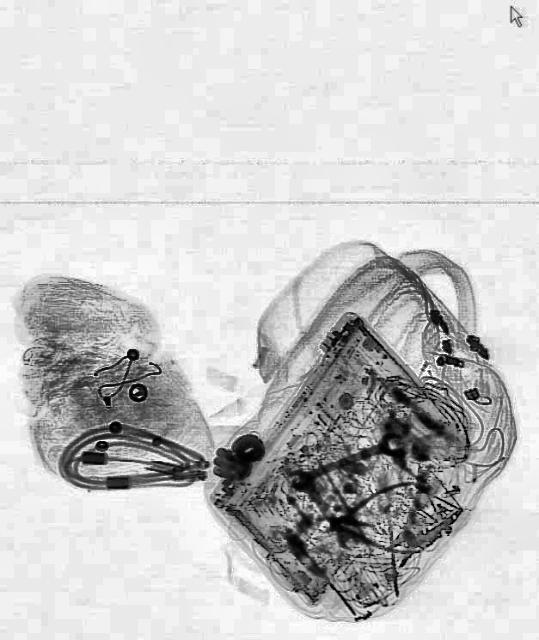Pliers: (322, 480, 422, 556)
Wrench: (292, 428, 404, 490), (289, 464, 360, 556)
